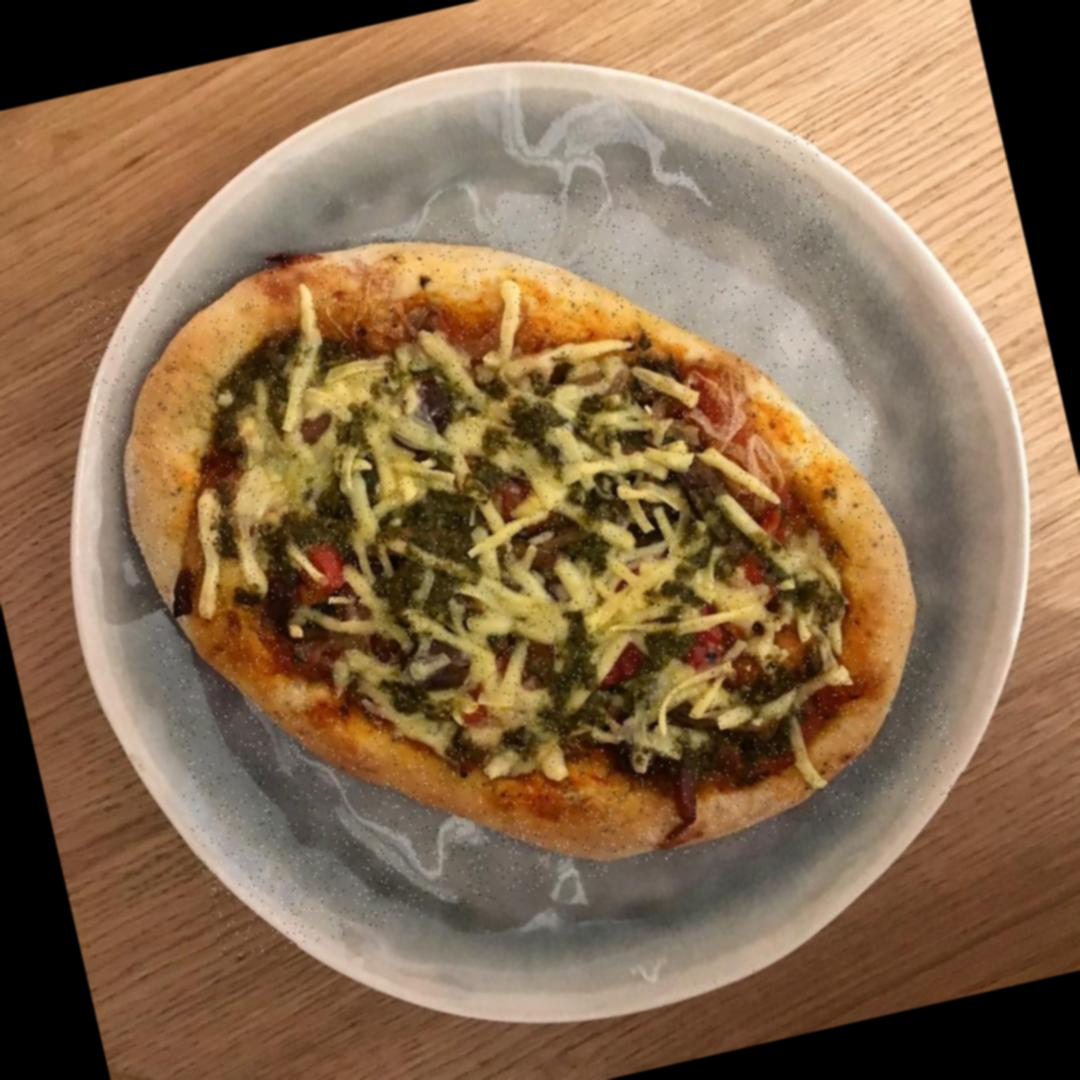Pizza: (69, 130, 967, 963)
Tomatoes: (292, 530, 360, 607), (680, 606, 738, 678)
